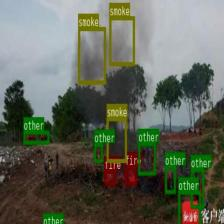fire: (125, 166, 136, 184), (104, 169, 115, 184)
smoke: (78, 27, 106, 83), (109, 16, 134, 64), (106, 117, 127, 162)
